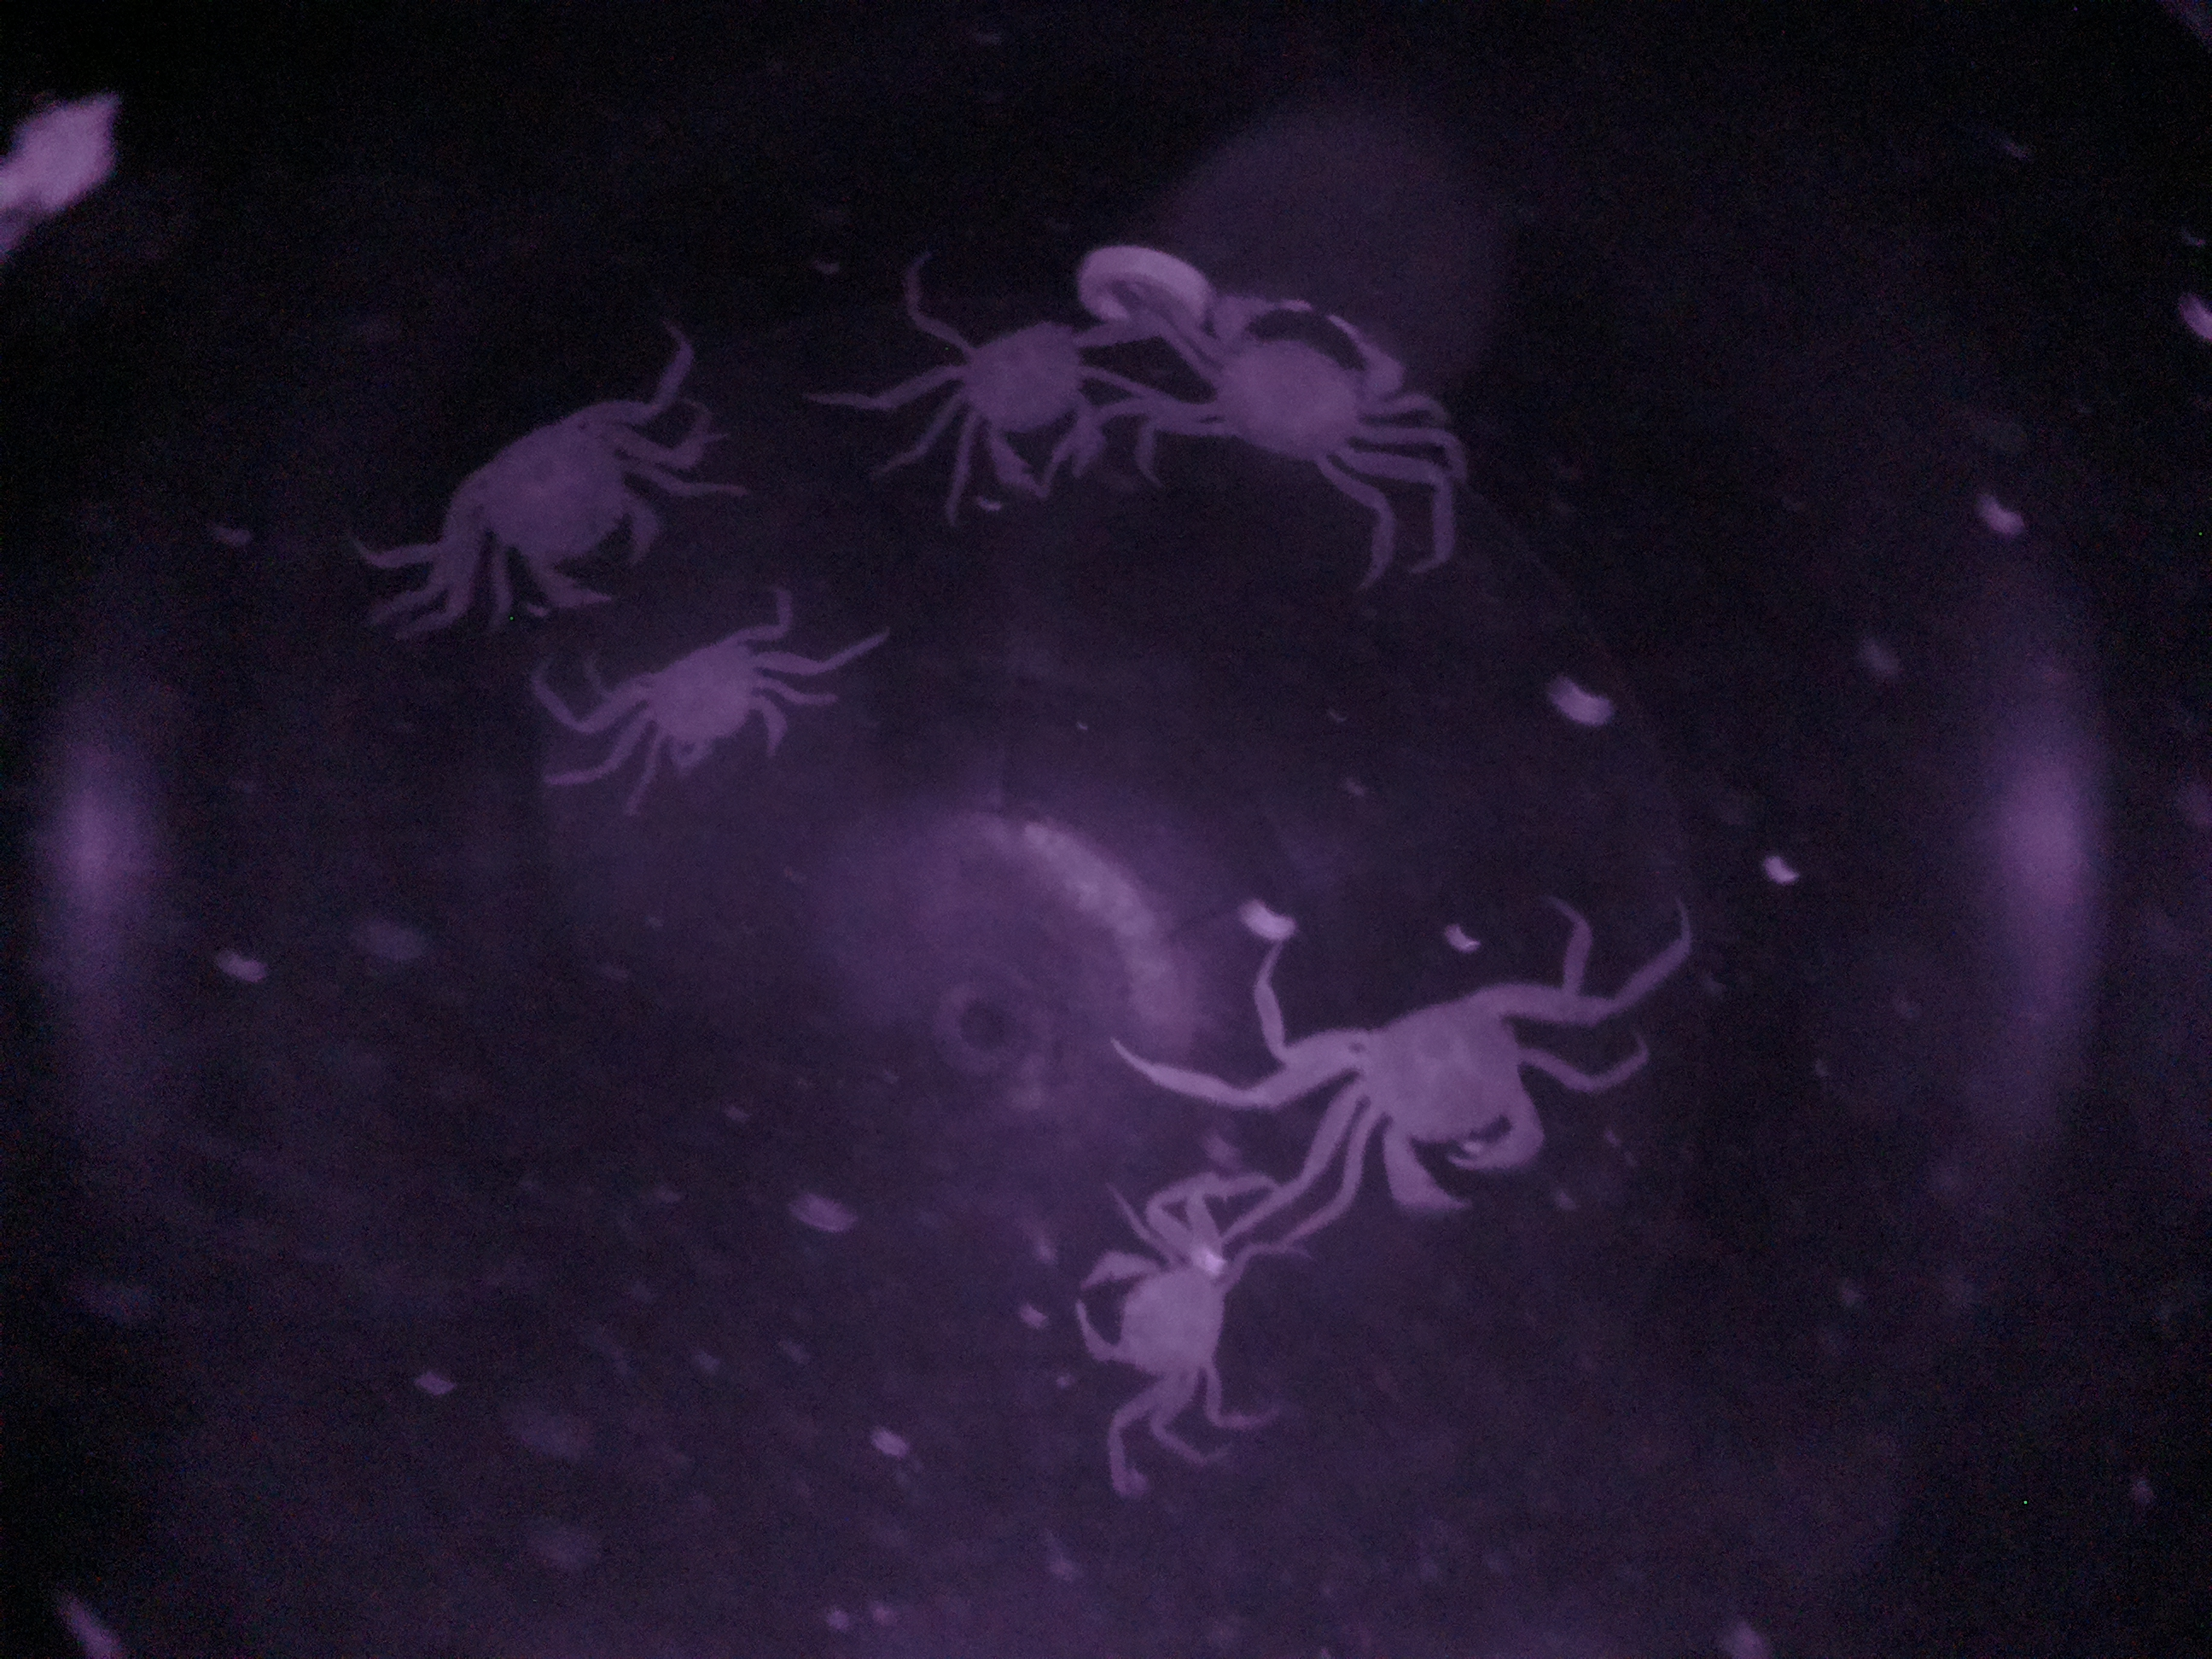Crab: (1303, 965, 1573, 1244), (1179, 281, 1425, 497), (911, 284, 1129, 507), (451, 403, 676, 615), (1059, 1199, 1244, 1431), (603, 631, 808, 800)
